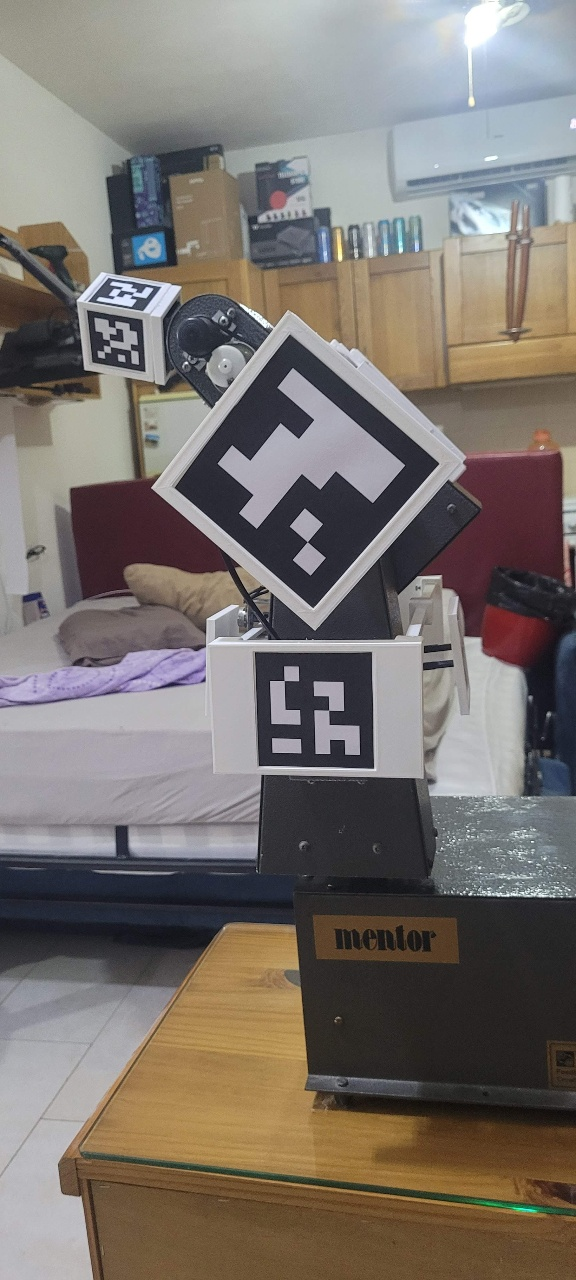Robot: (44, 234, 558, 1046)
